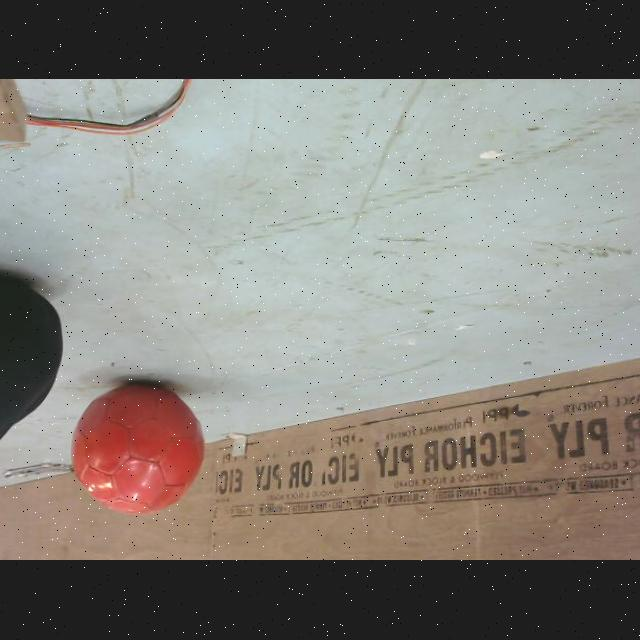R: (70, 381, 206, 517)
